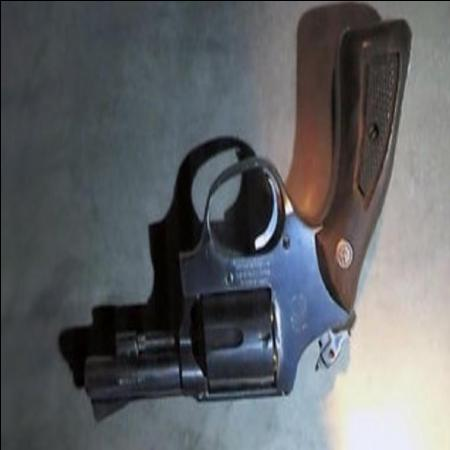Pistol: (80, 24, 415, 428)
